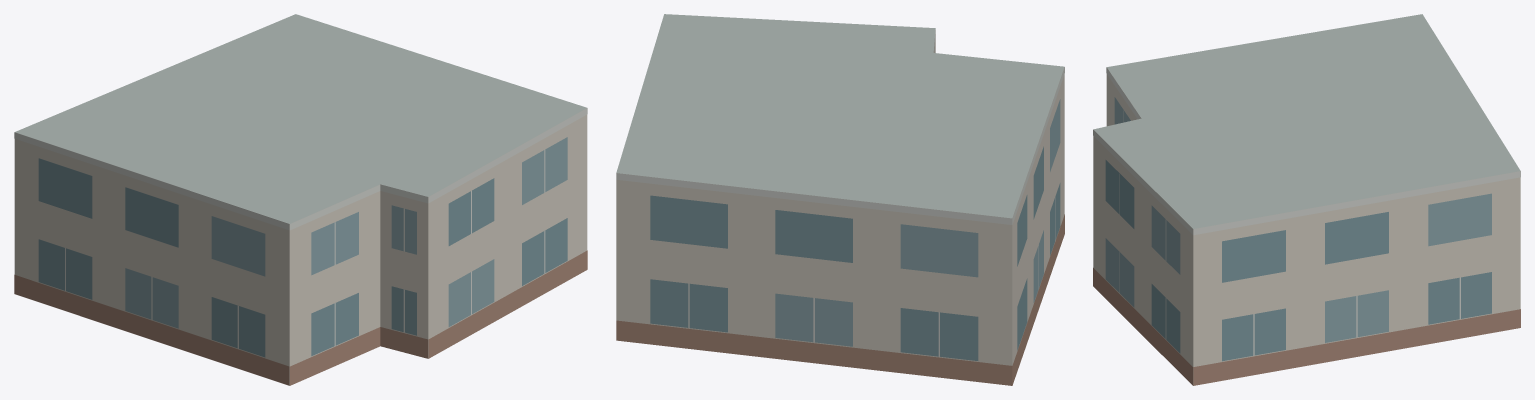
The model's file is survey-upis-32858196.glb.
3 renders of one model, left to right at view 1: azimuth 30°, elevation 25°; view 2: azimuth 150°, elevation 25°; view 3: azimuth 270°, elevation 25°, orthographic. The views are drawn at different scales.
Visible parts, largest first — view 1: survey-upis-32858196.tmp; view 2: survey-upis-32858196.tmp; view 3: survey-upis-32858196.tmp.
Part boxes in pixels (<box>): survey-upis-32858196.tmp: <box>14,14,587,385</box>; survey-upis-32858196.tmp: <box>616,14,1064,385</box>; survey-upis-32858196.tmp: <box>1093,14,1520,385</box>.
Bounding box in the file's own units: 17.95 × 6.1 × 15.08.
